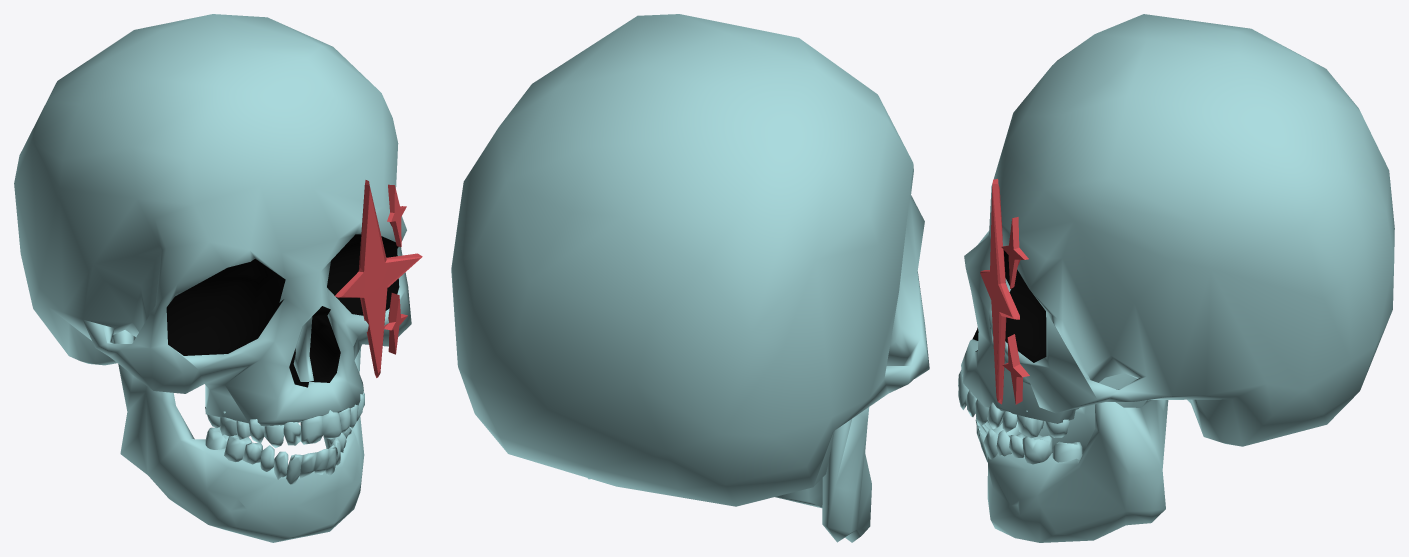
Rendered from Skelly_head.fbx.
The picture shows the model from 3 angles, left to right: view 1: azimuth 30°, elevation 25°; view 2: azimuth 150°, elevation 25°; view 3: azimuth 270°, elevation 25°; orthographic projection. The views are drawn at different scales.
Visible parts, largest first — view 1: Skelly_head; view 2: Skelly_head; view 3: Skelly_head.
Part boxes in pixels (box(x1,y1,x2,y2)): Skelly_head: box(14, 14, 422, 542); Skelly_head: box(451, 14, 929, 542); Skelly_head: box(958, 14, 1394, 542).
Size of the model in its own units: 17.93 by 24.49 by 20.43.
